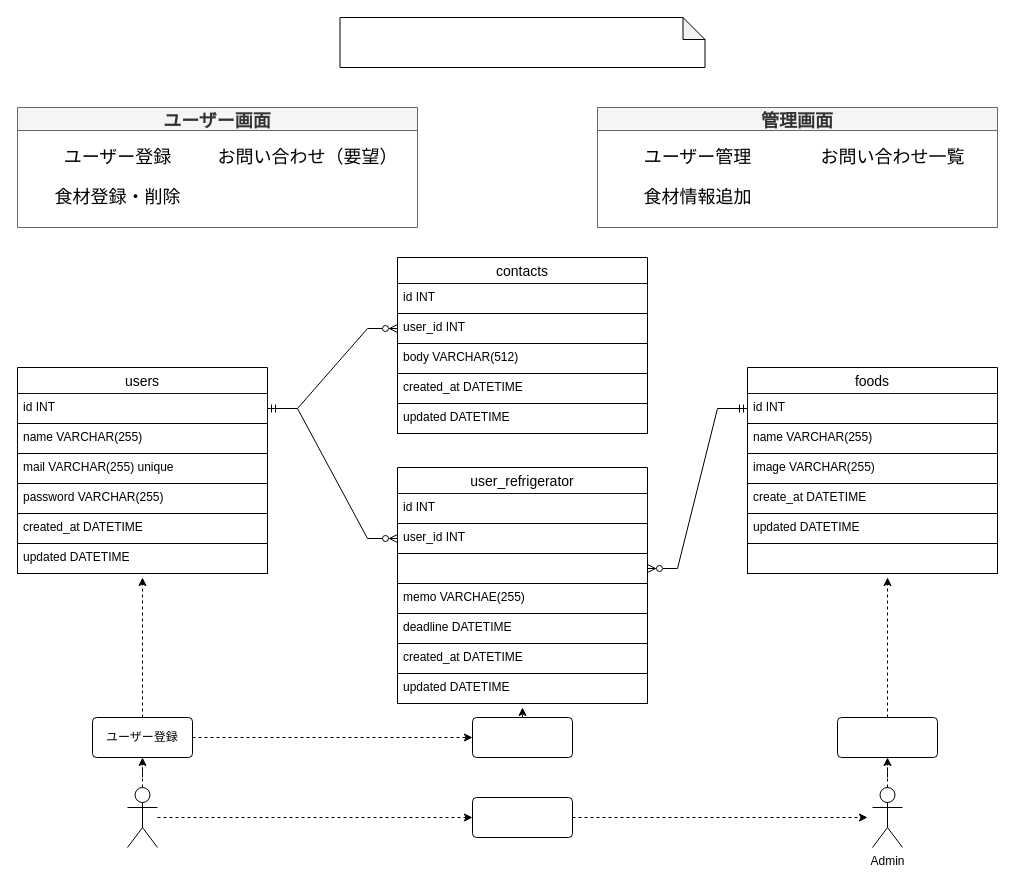
The diagram is 1015 pixels wide and 886 high, and some of its shapes have lost their labels. The shapes that lost their labels are listed below. From the top down, each one's centre as x and y in pixels, then its label:
the point at 522,42: 冷蔵庫管理アプリ ER図
the point at 522,568: food_id INT
the point at 872,558: category_id INT
the point at 522,737: 冷蔵庫情報登録
the point at 887,737: 管理者のみ登録可
the point at 142,817: user
the point at 522,817: 食材追加要望
